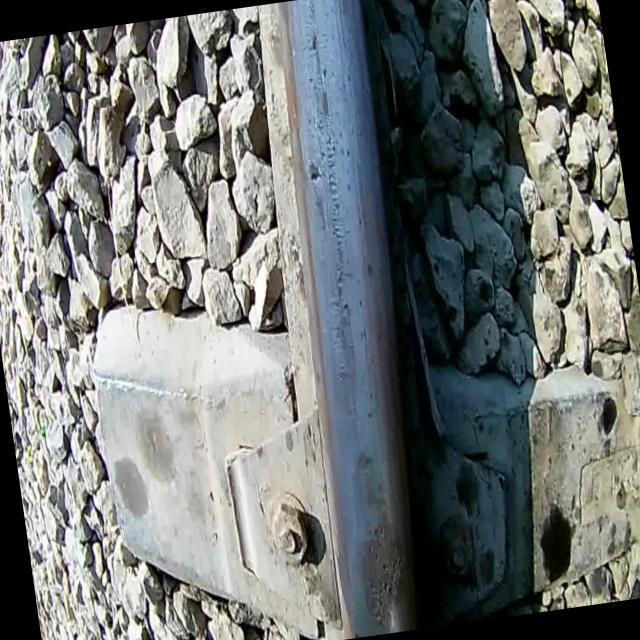Squats: (348, 498, 414, 632), (347, 444, 393, 517)
